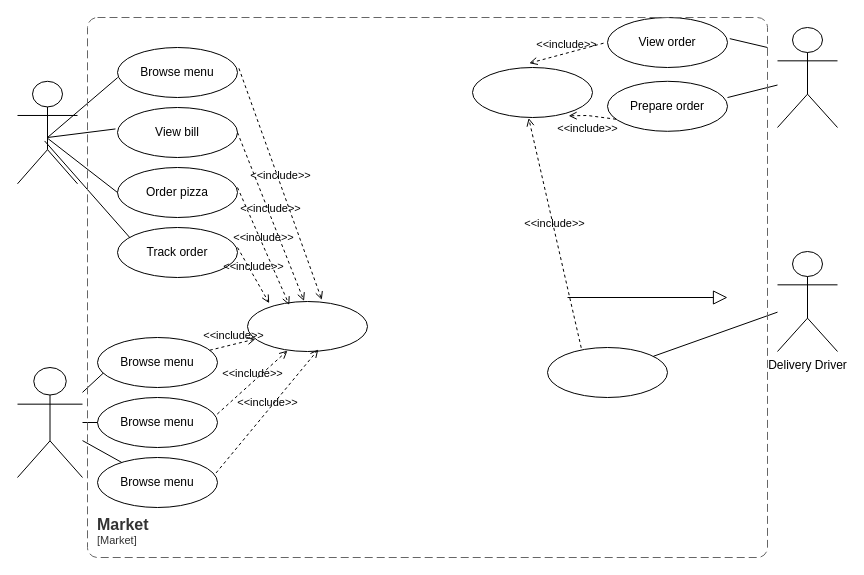
This 864x575 diagram has some shape labels left out. Here are the shapes that lost their labels. From the top down, the centre of each, then its label:
(x=532, y=92): Recieve order
(x=807, y=77): Chef
(x=47, y=132): Customer
(x=307, y=326): Login
(x=607, y=372): Delivers on time
(x=49, y=422): Admin
